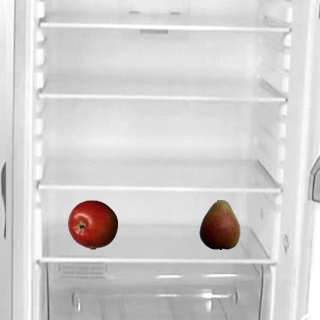Apple Braeburn: (67, 199, 117, 249)
Pear Forelle: (194, 199, 244, 249)
